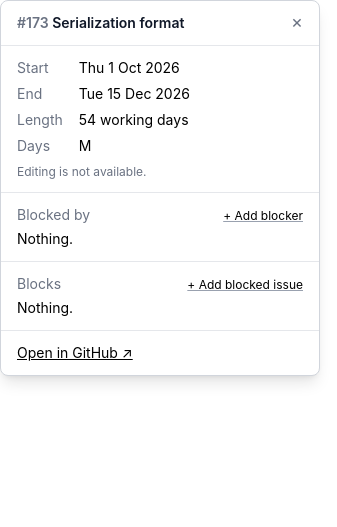
Test: TaskDetail › linking an issue that is not loaded › shows the error when there is no such issue
This screenshot has width=337, height=527.
Click the button "+ Add blocker" at (263,216), box 223,208 -> 303,224
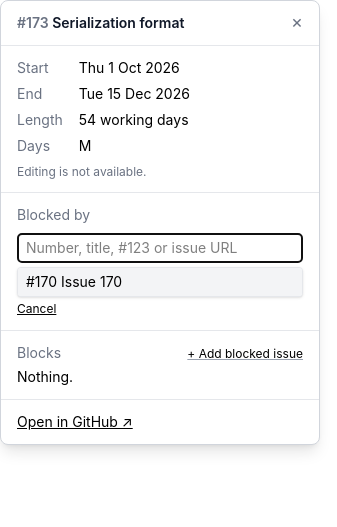
Type "#404" into the dropdown named "Add blocker" at (160,248), box 17,233 -> 303,263
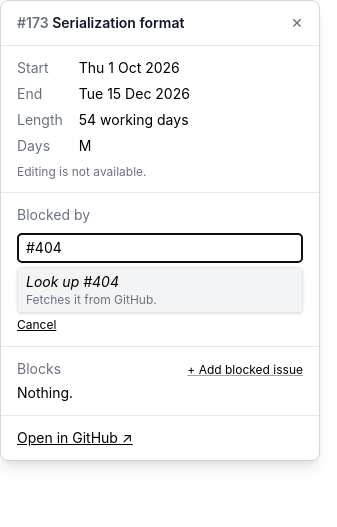
Press Enter in the dropdown named "Add blocker", box 17,233 -> 303,263
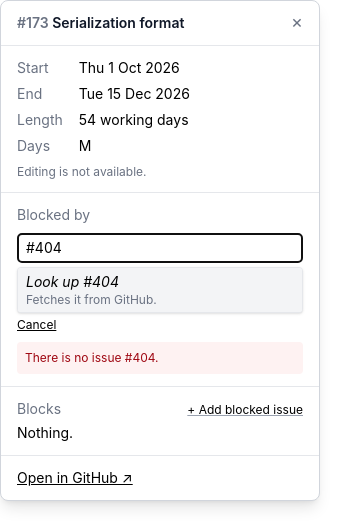
Expected: the message "There is no issue #404." is shown, 17,342 -> 303,374
